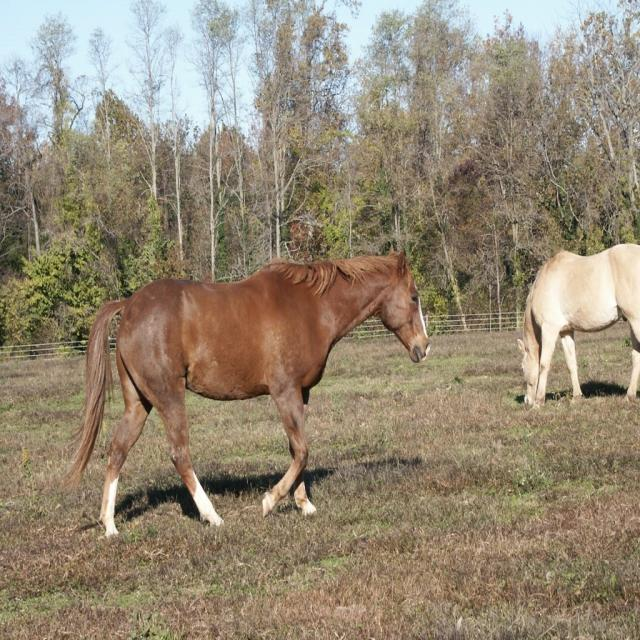Horse: (66, 242, 431, 536), (514, 246, 640, 413)
